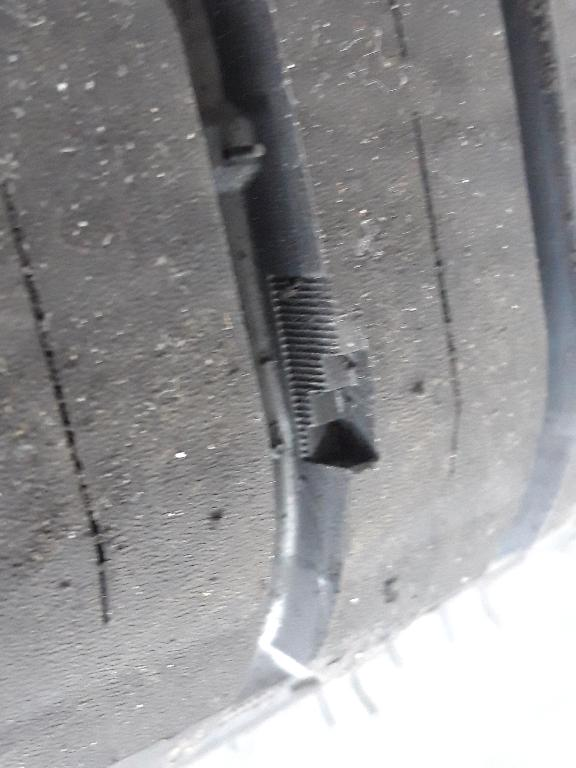temoin:75: (266, 290, 394, 484)
